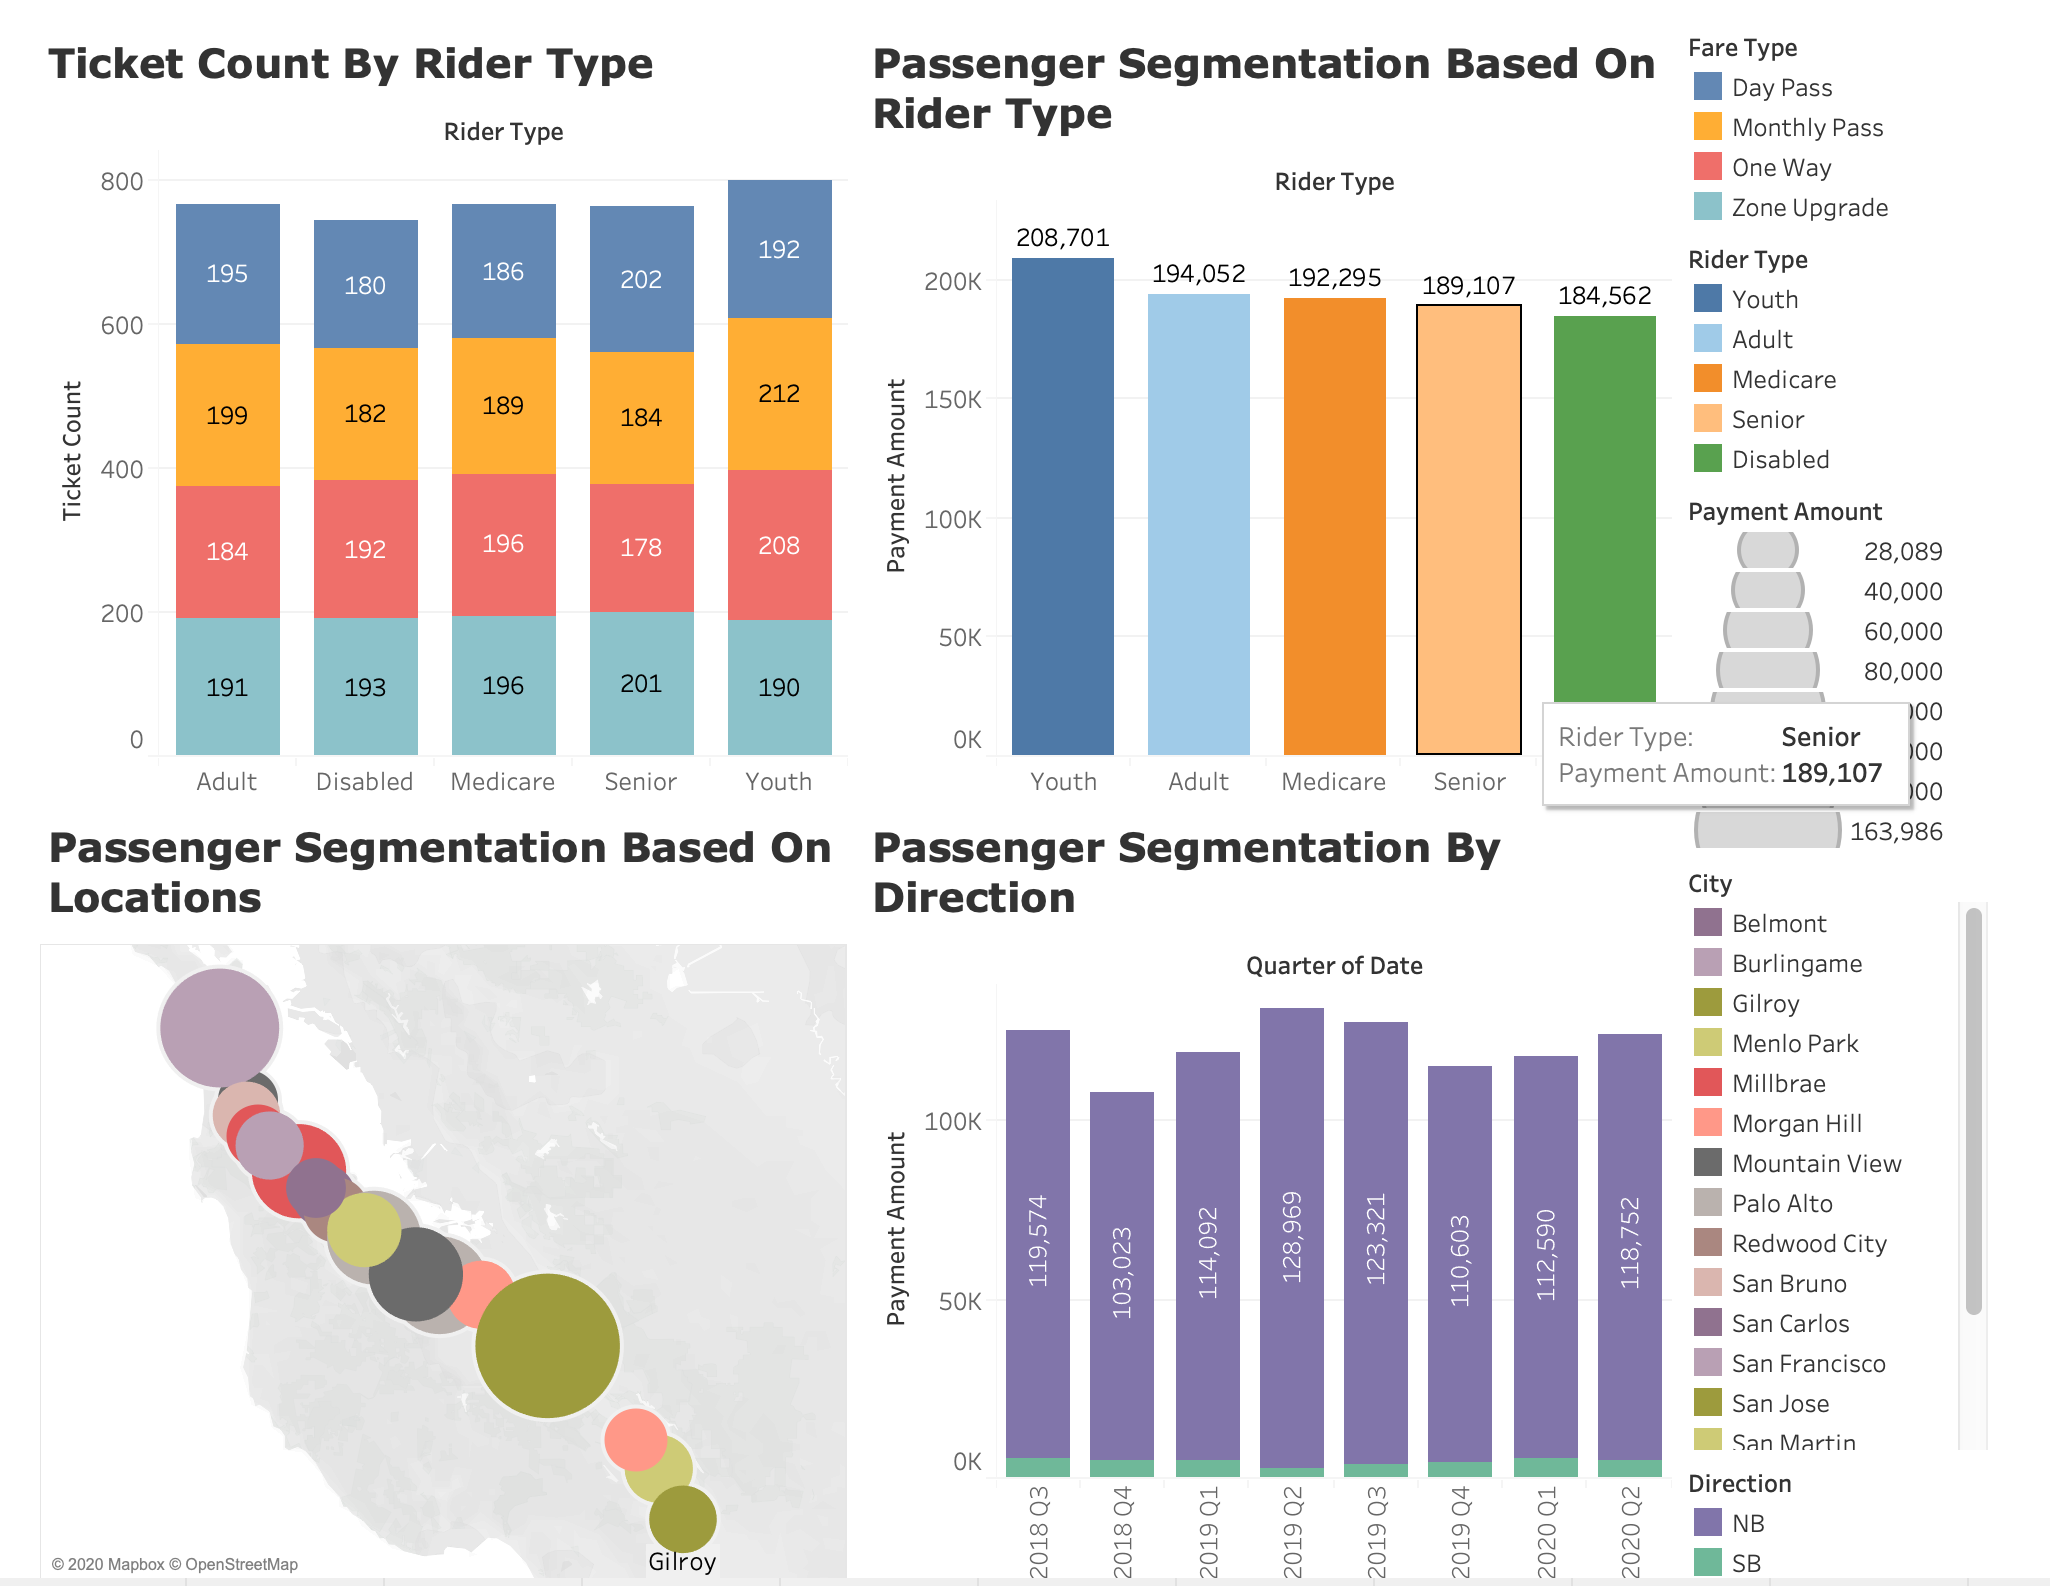

What the dashboard file says about the page in this screenshot:
{"tool":"tableau","page":{"name":"Descriptive Dashboard","canvas":[1000,800],"ordinal":0},"visuals":[{"type":"worksheet","title":"Ticket count  by rider type","mark":"Automatic","rows":["Calculation_1807280506496876544"],"cols":["rider_type"],"box":[8,8,412,392]},{"type":"worksheet","title":"By Rider Type","mark":"Automatic","rows":["payment_amount"],"cols":["rider_type"],"box":[420,8,412,392]},{"type":"legend","title":"Ticket count  by rider type","param":"[federated.05aghn710ed6ll126rtaj13pjl3t].[none:fare_type:nk]","box":[832,8,160,106]},{"type":"legend","title":"By Rider Type","param":"[federated.05aghn710ed6ll126rtaj13pjl3t].[none:rider_type:nk]","box":[832,114,160,126]},{"type":"legend","title":"By Location","param":"[federated.05aghn710ed6ll126rtaj13pjl3t].[sum:payment_amount:qk]","box":[832,240,160,186]},{"type":"worksheet","title":"By Location","mark":"Automatic","box":[8,400,412,392]},{"type":"worksheet","title":"By Direction","mark":"Bar","rows":["payment_amount"],"cols":["date"],"box":[420,400,412,392]},{"type":"legend","title":"By Location","param":"[federated.05aghn710ed6ll126rtaj13pjl3t].[none:city:nk]","box":[832,426,160,300]},{"type":"legend","title":"By Direction","param":"[federated.05aghn710ed6ll126rtaj13pjl3t].[none:direction:nk]","box":[832,726,160,66]}]}

Visuals, with their boxes on the page's 1000x800 design canvas (x1, y1, x2, y2). These are canvas units, not pixel positions in the 2050x1586 screenshot, which may show the page scaled, cropped or inside an application window:
"Ticket count  by rider type" worksheet: x1=8 y1=8 x2=420 y2=400
"By Rider Type" worksheet: x1=420 y1=8 x2=832 y2=400
"Ticket count  by rider type" legend: x1=832 y1=8 x2=992 y2=114
"By Rider Type" legend: x1=832 y1=114 x2=992 y2=240
"By Location" legend: x1=832 y1=240 x2=992 y2=426
"By Location" worksheet: x1=8 y1=400 x2=420 y2=792
"By Direction" worksheet (Bar marks): x1=420 y1=400 x2=832 y2=792
"By Location" legend: x1=832 y1=426 x2=992 y2=726
"By Direction" legend: x1=832 y1=726 x2=992 y2=792
